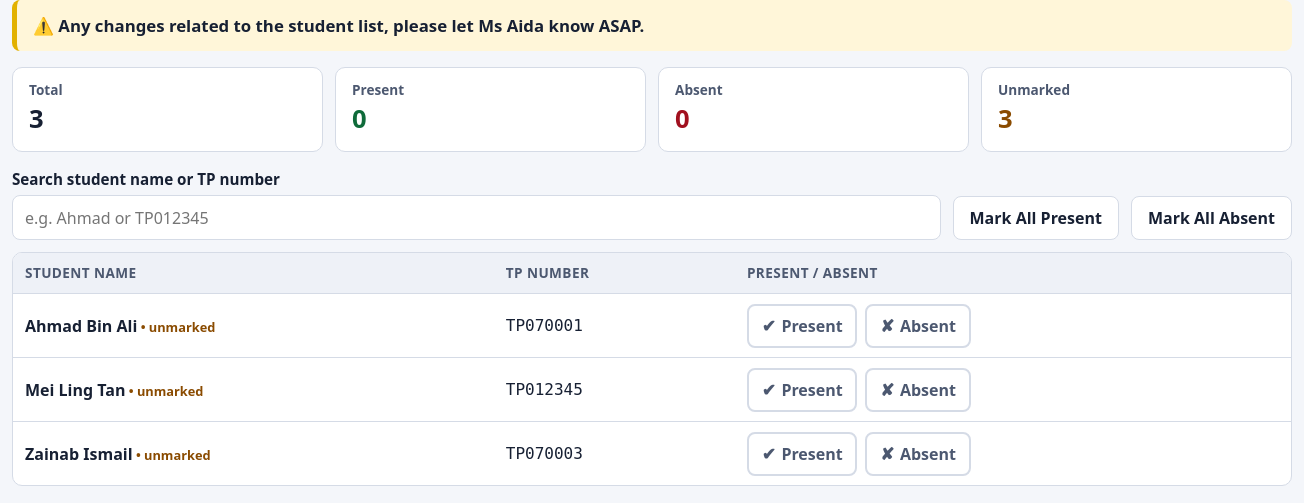
Test: AttendanceMarker (§11.4, AC-004, AC-005, AC-011) › present/absent are mutually exclusive and counters update live
Click the radio button labelled "✔ Present" in the row of "Ahmad Bin Ali" at (802, 326), box [747,304,858,348]
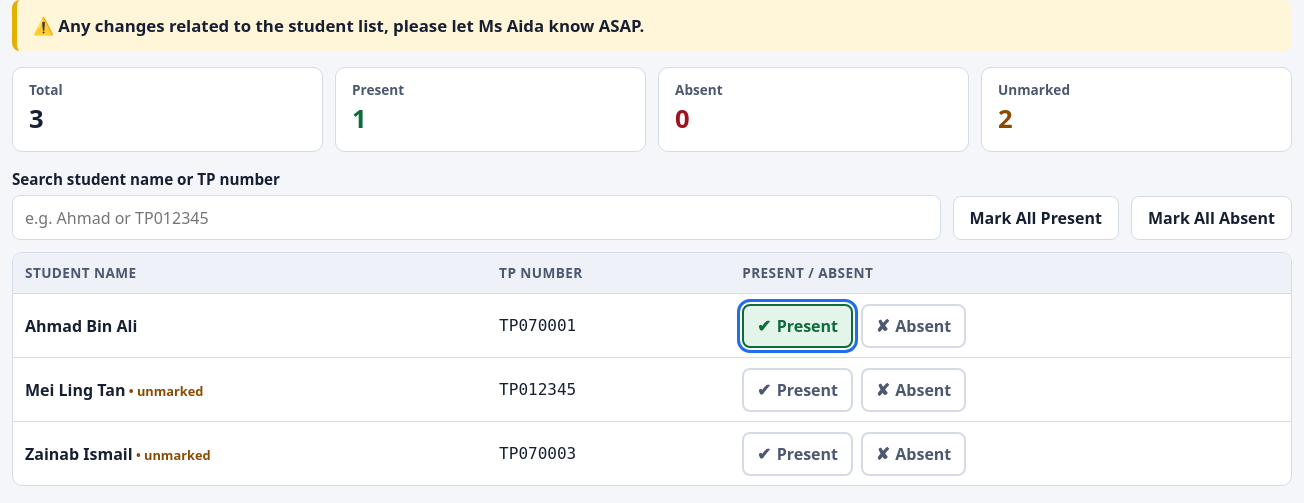
Click the radio button labelled "✘ Absent" in the row of "Ahmad Bin Ali" at (913, 326), box [861,304,966,348]
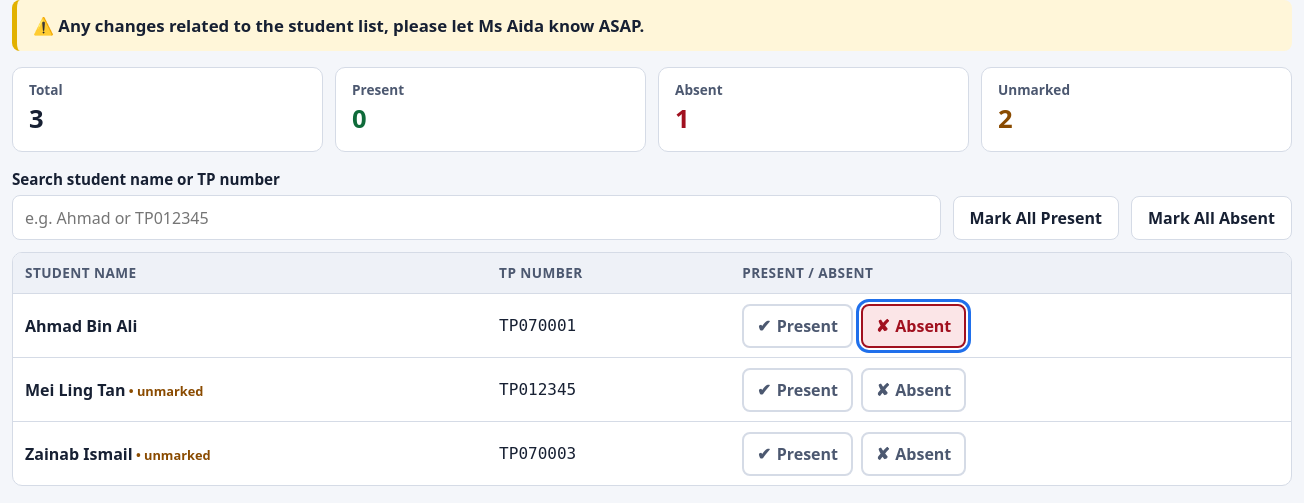
Expected: the radio button labelled "✘ Absent" in the row of "Ahmad Bin Ali" is checked, [861,304,966,348]
Expected: the radio button labelled "✔ Present" in the row of "Ahmad Bin Ali" is not checked, [742,304,853,348]
